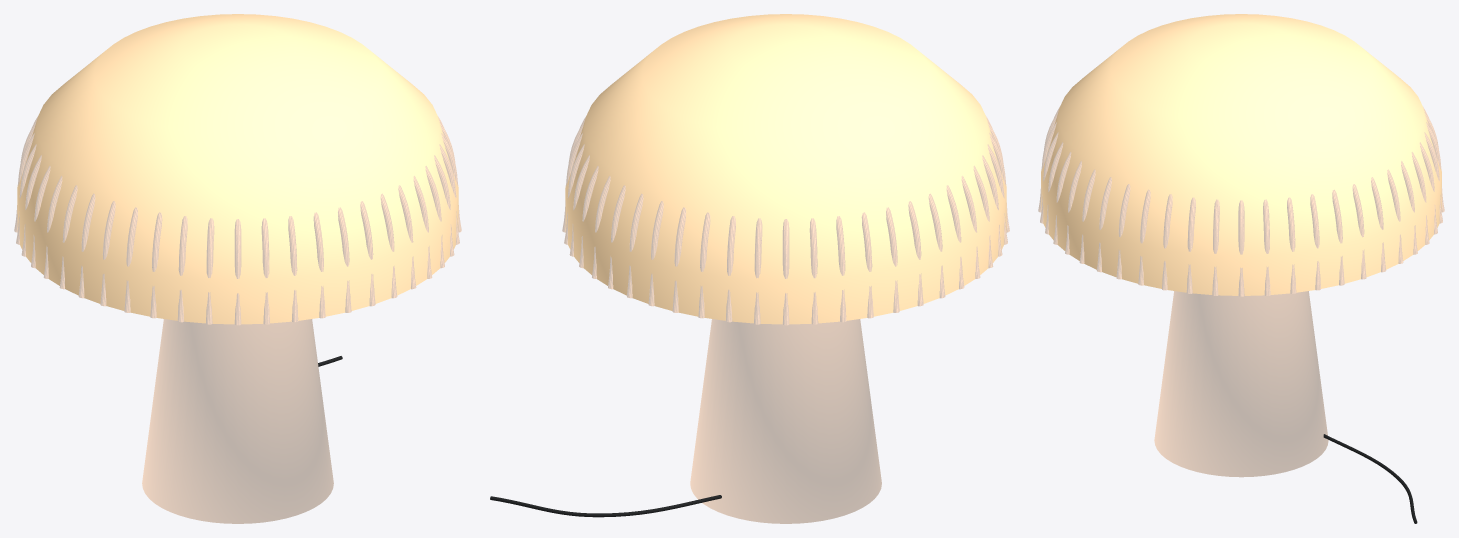
File: ref08_11.glb
3 renders of one model, left to right at view 1: azimuth 30°, elevation 25°; view 2: azimuth 150°, elevation 25°; view 3: azimuth 270°, elevation 25°, orthographic. The views are drawn at different scales.
Visible parts, largest first — view 1: ref08_11; view 2: ref08_11; view 3: ref08_11.
Boxes of the visible parts, x1,y1,x2,y2 form: ref08_11: (14, 14, 461, 523); ref08_11: (490, 14, 1009, 523); ref08_11: (1038, 14, 1444, 523).
Size of the model in its own units: 0.4736 by 0.505 by 0.4666.
Materials: 4 (1 with a texture image).
